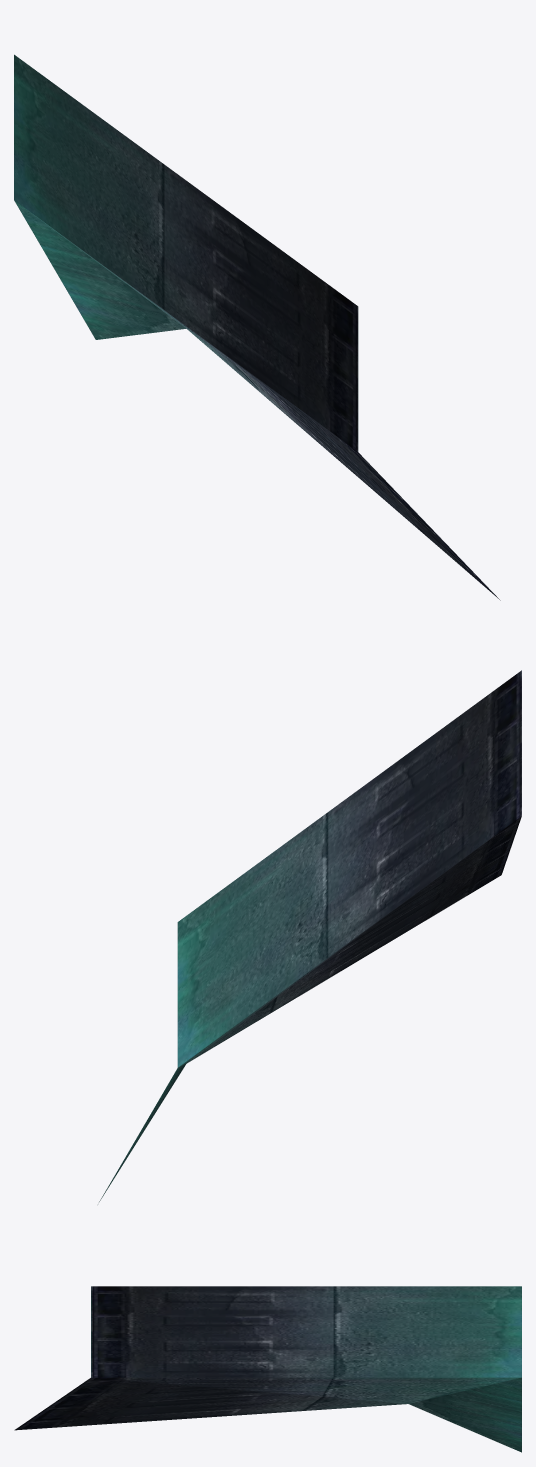
3 views of the same model, one above another, from view 1: azimuth 30°, elevation 25°; view 2: azimuth 150°, elevation 25°; view 3: azimuth 270°, elevation 25° (orthographic). The views are drawn at different scales.
Parts seen in each view (by area): view 1: model_Object49; view 2: model_Object49; view 3: model_Object49.
Boxes of the visible parts, x1,y1,x2,y2 form: model_Object49: (14, 54, 500, 600); model_Object49: (99, 670, 521, 1201); model_Object49: (14, 1286, 521, 1452).
Size of the model in its own units: 1.52 by 2.71 by 6.53.
1 material, 1 textured.
